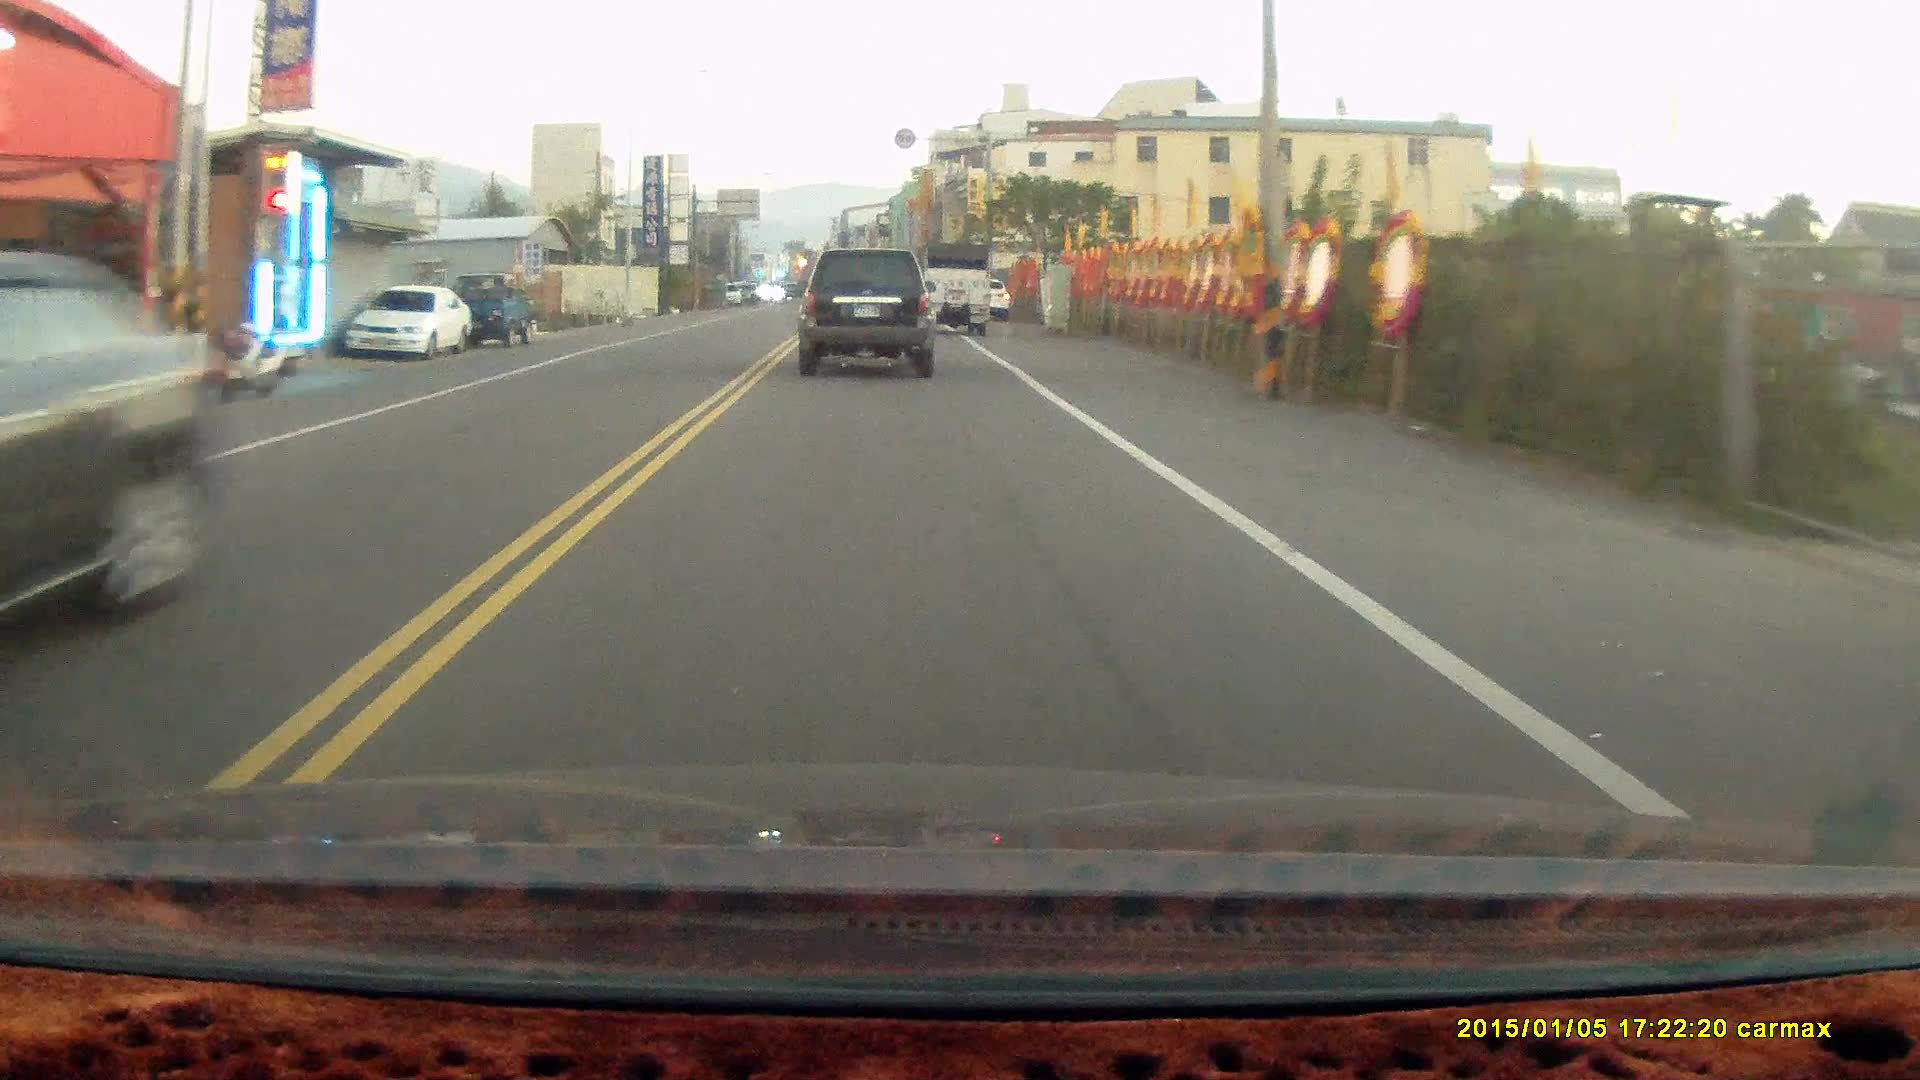vehicle: (1, 248, 223, 666), (800, 249, 940, 381), (348, 286, 475, 365), (450, 272, 542, 351), (923, 243, 996, 342)
